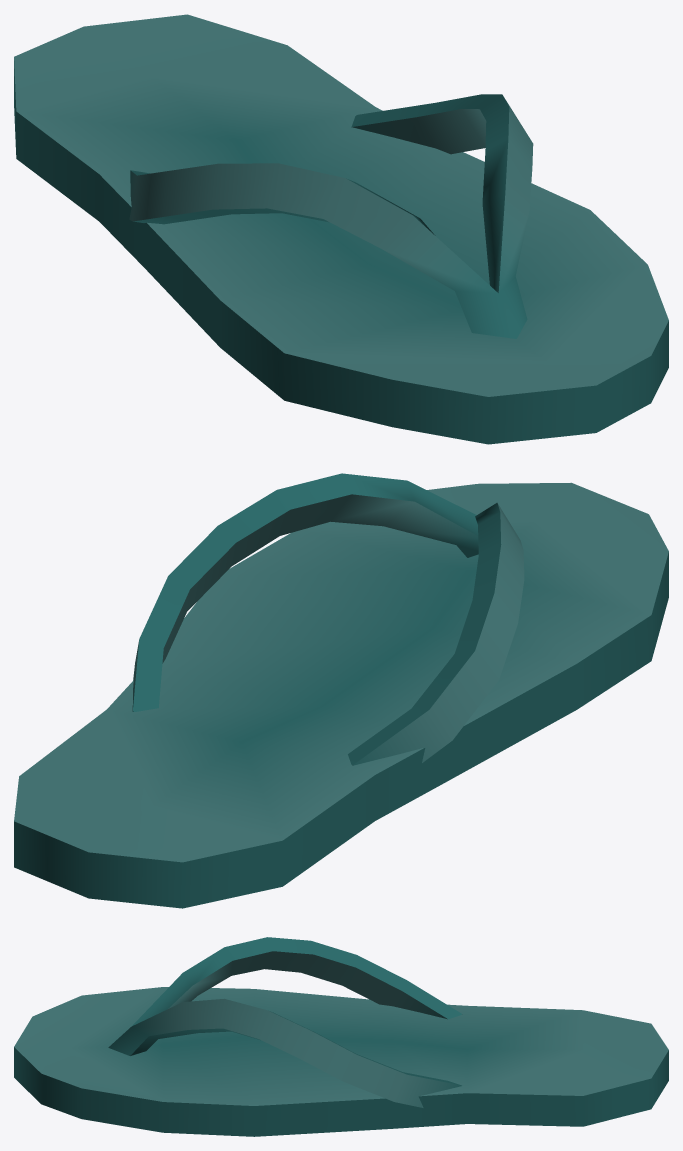
File: human-clothing-flip-flop_v1.glb
3 views of the same model, one above another, from view 1: azimuth 30°, elevation 25°; view 2: azimuth 150°, elevation 25°; view 3: azimuth 270°, elevation 25° (orthographic). The views are drawn at different scales.
Parts seen in each view (by area): view 1: Flip Flop; view 2: Flip Flop; view 3: Flip Flop.
Part boxes in pixels (x1=…): Flip Flop: x1=14, y1=14, x2=668, y2=444; Flip Flop: x1=14, y1=473, x2=668, y2=908; Flip Flop: x1=14, y1=937, x2=668, y2=1136.
Bounding box in the file's own units: 0.1162 × 0.0502 × 0.27.
